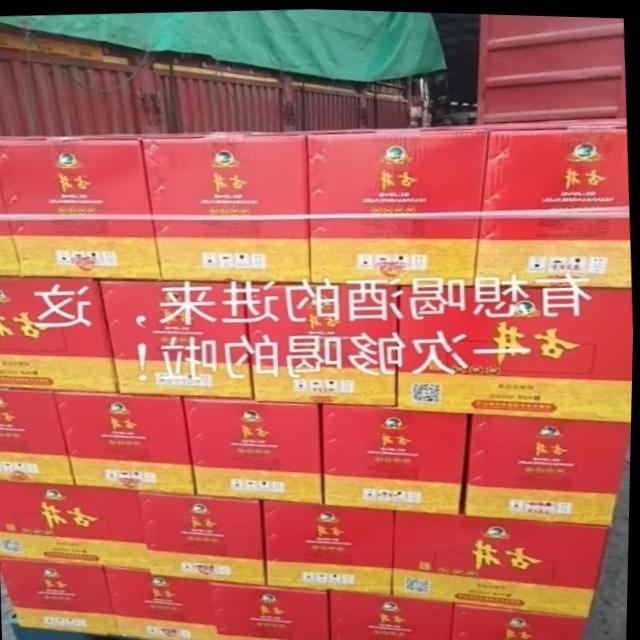box: (139, 125, 368, 283), (398, 281, 634, 420), (0, 129, 213, 280), (308, 120, 496, 282), (472, 113, 630, 283), (396, 506, 610, 620), (462, 412, 633, 525), (98, 277, 253, 399), (247, 282, 399, 405), (317, 404, 474, 509), (187, 397, 328, 503), (56, 392, 198, 497), (0, 276, 114, 394), (3, 480, 151, 570), (263, 500, 399, 597), (140, 492, 268, 582), (7, 560, 123, 635), (105, 568, 216, 640), (0, 390, 79, 487), (215, 578, 332, 640), (330, 590, 455, 640), (450, 603, 589, 640), (0, 174, 23, 274)
